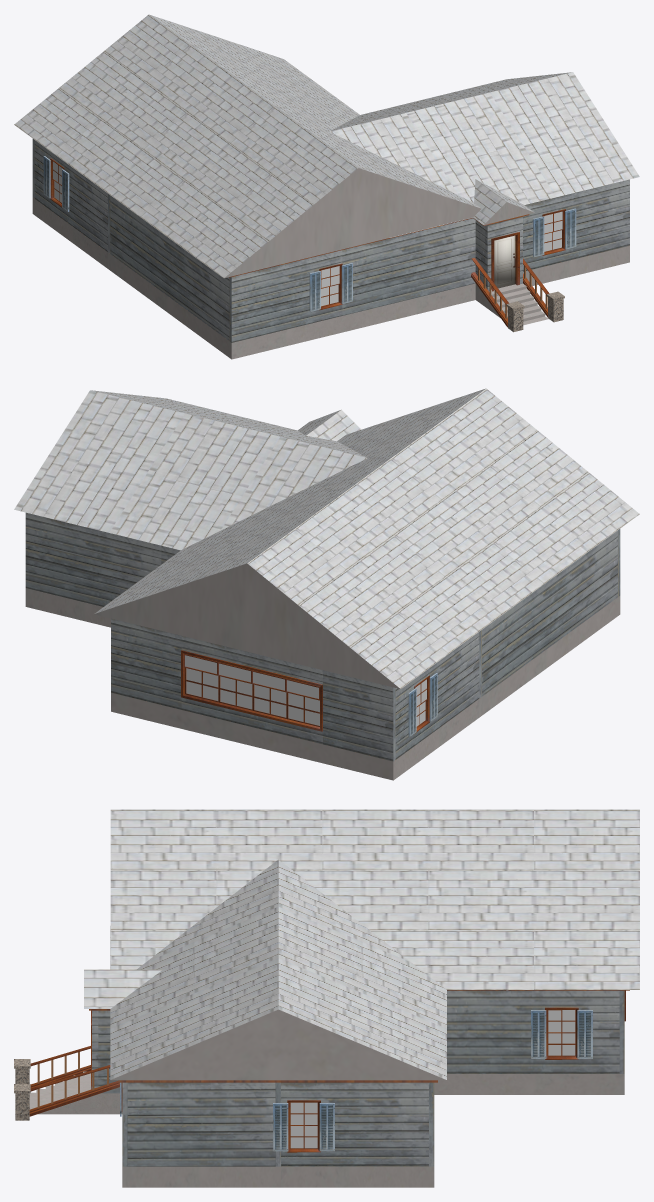
Rendered from Psx House 1.dae.
3 views of the same model, one above another, from view 1: azimuth 30°, elevation 25°; view 2: azimuth 150°, elevation 25°; view 3: azimuth 270°, elevation 25° (orthographic). The views are drawn at different scales.
Parts seen in each view (by area): view 1: roof, wall11, wall6, wall20, ground1, wall3, ground4, ground8, wall13, ground2, stair railing2, stairs (+3 smaller); view 2: roof, wall1, wall6, wall16, ground2, wall3, ground1, ground7, window5, window7, window6, window8; view 3: roof, wall18, wall2, wall17, ground2, ground8, ground7, stair railing1, stairs, stair railing2, wall14, blinds4 (+11 smaller).
Boxes of the visible parts, x1,y1,x2,y2 form: roof: [14, 14, 639, 278]; wall11: [229, 218, 475, 342]; wall6: [110, 195, 229, 340]; wall20: [523, 179, 629, 271]; ground1: [108, 252, 350, 359]; wall3: [34, 140, 107, 251]; ground4: [350, 284, 471, 330]; ground8: [523, 246, 629, 285]; wall13: [485, 216, 522, 291]; ground2: [32, 197, 107, 268]; stair railing2: [471, 258, 524, 332]; stairs: [486, 283, 548, 325]; roof: [14, 388, 639, 688]; wall1: [111, 618, 395, 761]; wall6: [482, 530, 617, 696]; wall16: [25, 512, 161, 606]; ground2: [111, 693, 479, 780]; wall3: [395, 632, 479, 759]; ground1: [479, 596, 620, 717]; ground7: [25, 588, 110, 627]; window5: [185, 668, 218, 702]; window7: [253, 684, 286, 718]; window6: [219, 676, 252, 710]; window8: [287, 692, 319, 726]; roof: [84, 809, 639, 1080]; wall18: [127, 1082, 275, 1166]; wall2: [447, 990, 619, 1073]; wall17: [281, 1082, 428, 1166]; ground2: [434, 1074, 624, 1094]; ground8: [122, 1166, 280, 1187]; ground7: [281, 1166, 434, 1187]; stair railing1: [14, 1065, 119, 1120]; stairs: [29, 1071, 95, 1114]; stair railing2: [14, 1046, 90, 1091]; wall14: [98, 1010, 119, 1093]; blinds4: [531, 1010, 546, 1058].
Size of the model in its own units: 19.08 by 19.71 by 7.24.
Materials: 13 (9 with a texture image).
